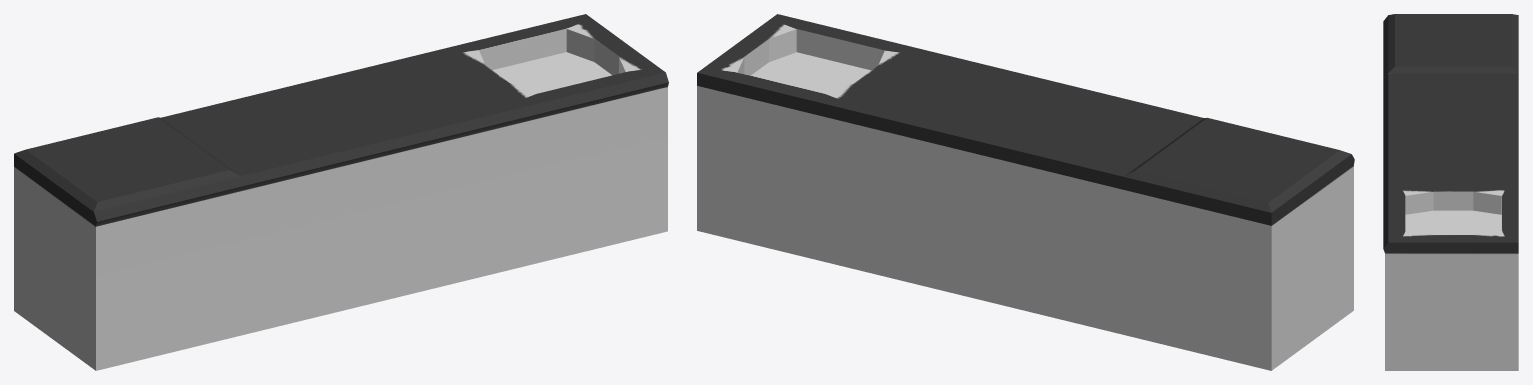
Rendered from keuken blok.fbx.
3 renders of one model, left to right at view 1: azimuth 30°, elevation 25°; view 2: azimuth 150°, elevation 25°; view 3: azimuth 270°, elevation 25°, orthographic. The views are drawn at different scales.
Parts seen in each view (by area): view 1: pCube12; view 2: pCube12; view 3: pCube12.
Part boxes in pixels (x1=…): pCube12: x1=14, y1=14, x2=668, y2=370; pCube12: x1=697, y1=14, x2=1354, y2=370; pCube12: x1=1383, y1=14, x2=1518, y2=370.
Bounding box in the file's own units: 17.75 × 4.82 × 4.46.
